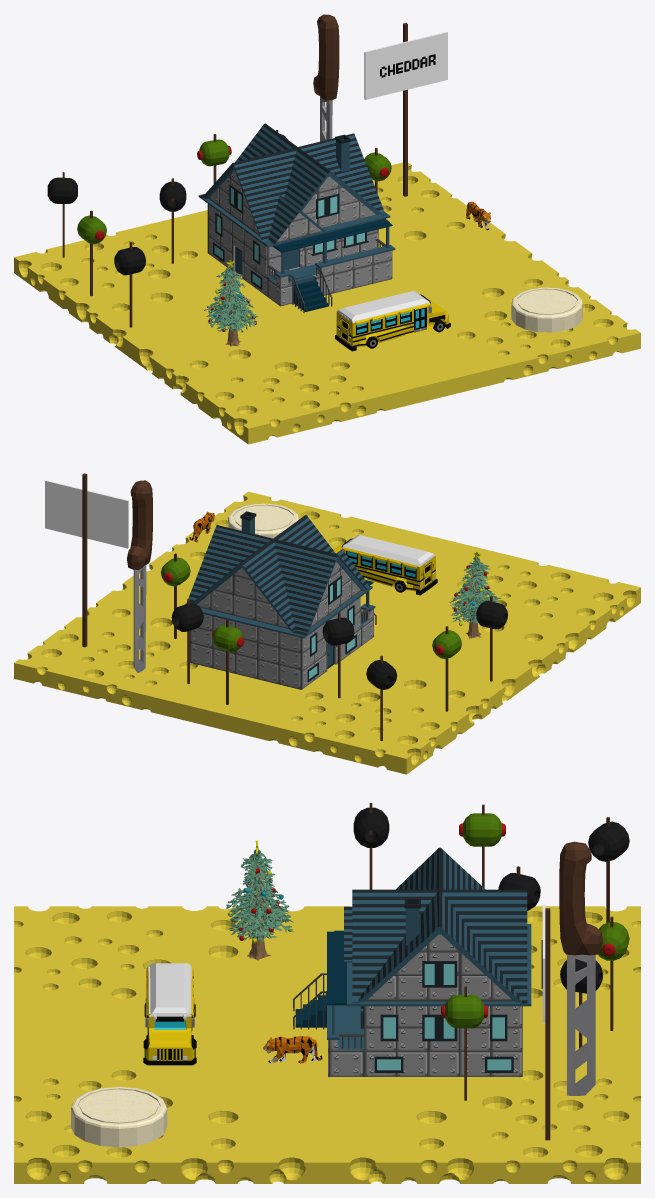
The picture shows the model from 3 angles, top to bottom: view 1: azimuth 30°, elevation 25°; view 2: azimuth 150°, elevation 25°; view 3: azimuth 270°, elevation 25°; orthographic projection. The views are drawn at different scales.
Visible parts, largest first — view 1: Cube.022, Cube.078, Cube.023, VEHICLES_SCHOOL_BUS, Cylinder.016, Cube.024, OBJRANDOM_CHRISTMAS_TREE, Sphere.017, Sphere.016, Sphere.020, Sphere.018, Sphere.022 (+1 smaller); view 2: Cube.022, Cube.078, Cube.023, VEHICLES_SCHOOL_BUS, Cube.024, OBJRANDOM_CHRISTMAS_TREE, Cylinder.016, Sphere.017, Sphere.020, Sphere.021, Sphere.016, Sphere.018 (+2 smaller); view 3: Cube.022, Cube.078, Cube.024, VEHICLES_SCHOOL_BUS, Cylinder.016, OBJRANDOM_CHRISTMAS_TREE, Cube.023, Sphere.019, Sphere.016, Sphere.018, Sphere.017, Sphere.022 (+3 smaller).
Part boxes in pixels (left/top/right/bottom): Cube.022: left=14, top=162, right=640, bottom=444; Cube.078: left=198, top=123, right=395, bottom=313; Cube.023: left=364, top=23, right=447, bottom=196; VEHICLES_SCHOOL_BUS: left=335, top=291, right=450, bottom=351; Cylinder.016: left=511, top=287, right=582, bottom=332; Cube.024: left=313, top=14, right=339, bottom=141; OBJRANDOM_CHRISTMAS_TREE: left=204, top=260, right=258, bottom=346; Sphere.017: left=114, top=242, right=145, bottom=327; Sphere.016: left=47, top=172, right=77, bottom=257; Sphere.020: left=159, top=178, right=186, bottom=263; Sphere.018: left=77, top=210, right=106, bottom=296; Sphere.022: left=197, top=134, right=231, bottom=183; Cube.022: left=14, top=491, right=640, bottom=774; Cube.078: left=185, top=511, right=376, bottom=689; Cube.023: left=45, top=473, right=128, bottom=647; VEHICLES_SCHOOL_BUS: left=333, top=535, right=437, bottom=595; Cube.024: left=127, top=480, right=152, bottom=672; OBJRANDOM_CHRISTMAS_TREE: left=449, top=551, right=500, bottom=638; Cylinder.016: left=228, top=503, right=298, bottom=538; Sphere.017: left=476, top=596, right=507, bottom=681; Sphere.020: left=322, top=612, right=354, bottom=698; Sphere.021: left=171, top=598, right=203, bottom=683; Sphere.016: left=366, top=655, right=397, bottom=741; Sphere.018: left=432, top=626, right=461, bottom=711; Cube.022: left=14, top=906, right=640, bottom=1183; Cube.078: left=293, top=847, right=531, bottom=1076; Cube.024: left=559, top=841, right=602, bottom=1095; VEHICLES_SCHOOL_BUS: left=143, top=963, right=196, bottom=1065; Cylinder.016: left=71, top=1086, right=167, bottom=1147; OBJRANDOM_CHRISTMAS_TREE: left=226, top=840, right=293, bottom=961; Cube.023: left=541, top=904, right=550, bottom=1140; Sphere.019: left=441, top=986, right=487, bottom=1100; Sphere.016: left=588, top=817, right=629, bottom=922; Sphere.018: left=459, top=804, right=505, bottom=887; Sphere.017: left=353, top=803, right=389, bottom=889; Sphere.022: left=598, top=916, right=629, bottom=1030.
Bounding box in the file's own units: 3917 × 2010 × 4000.
40 materials, 5 textured.
